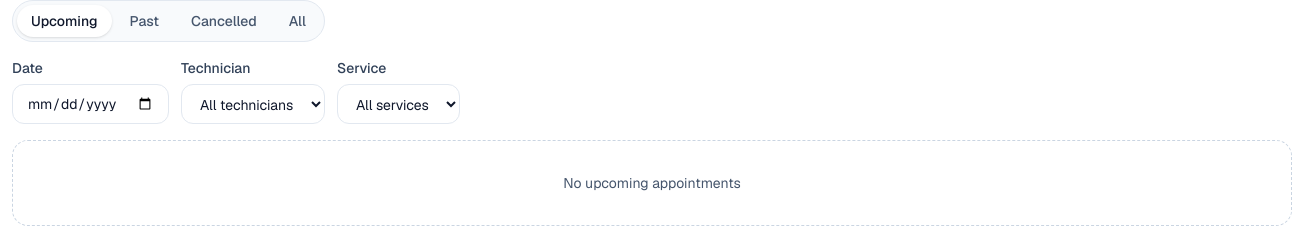
Scenario: BookingList — empty states › shows the Cancelled empty state
This screenshot has width=1292, height=243.
Click the tab "Cancelled": (224, 21) left=177, top=5, right=271, bottom=37
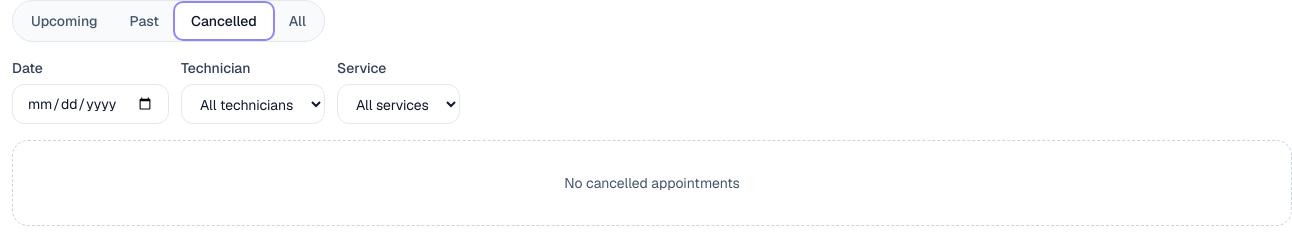
Now the text "No cancelled appointments" is shown, box left=564, top=174, right=740, bottom=192
